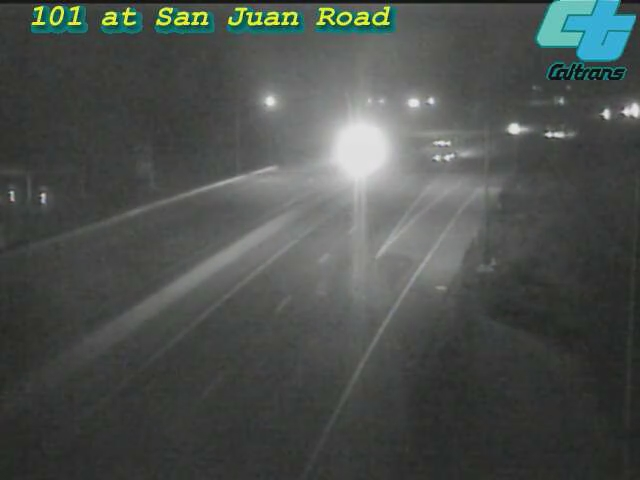vehicle: (326, 126, 376, 176), (491, 104, 541, 154), (530, 110, 580, 160), (422, 123, 472, 173), (581, 89, 631, 139), (607, 87, 640, 137)
